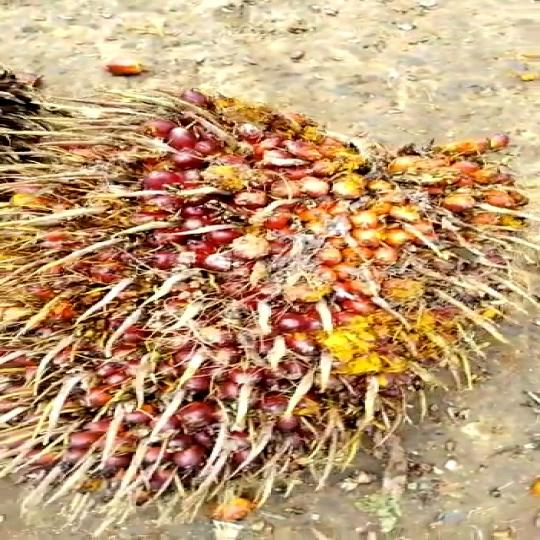masak: (0, 95, 540, 502)
